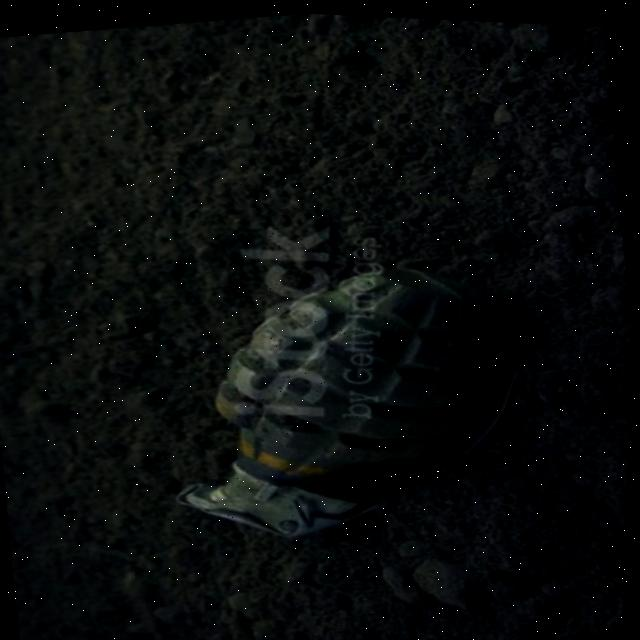grenade: (138, 209, 575, 591)
